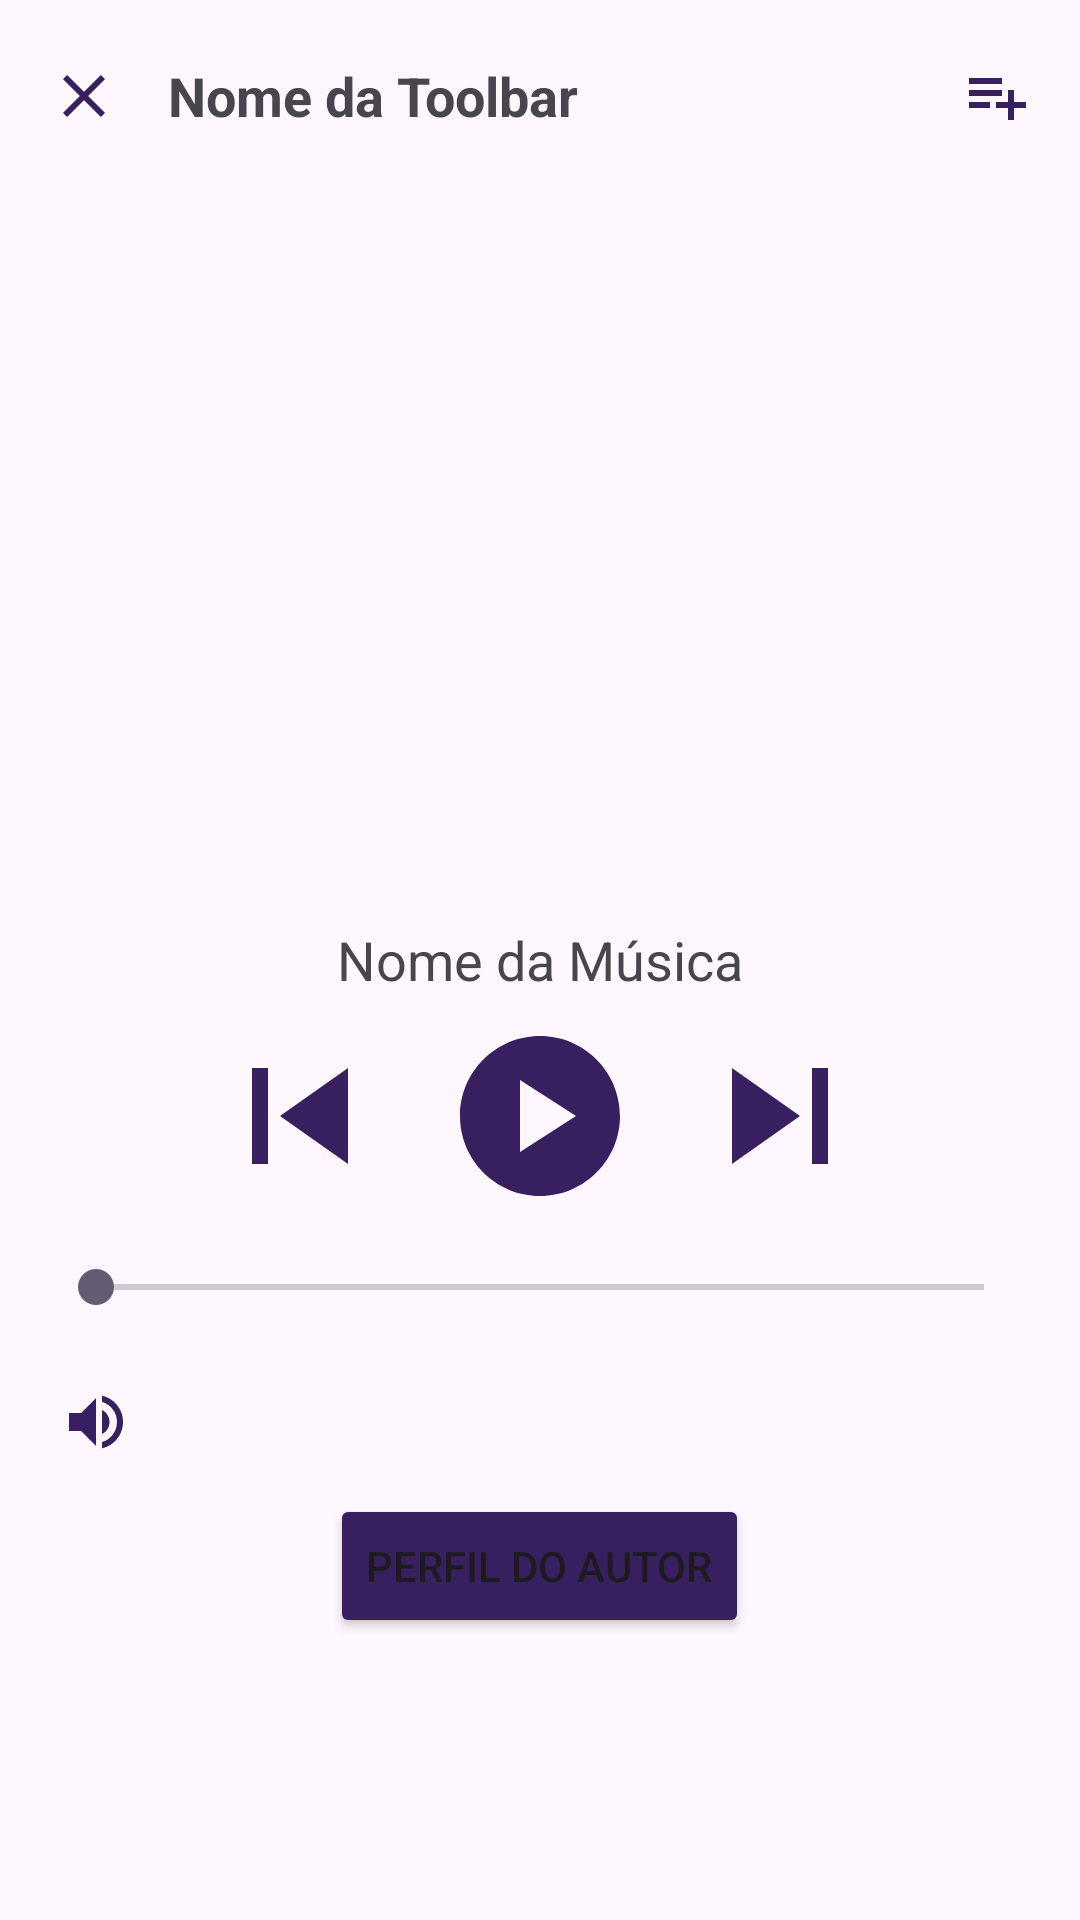

Icons on this 1080 × 1920 Android screen, each with the point to tap as [x,y]:
Adicionar na Playlist: [997,99]
Fechar: [84,96]
play circle: [540,1116]
skip next: [780,1116]
skip previous: [300,1116]
volume up: [96,1422]
